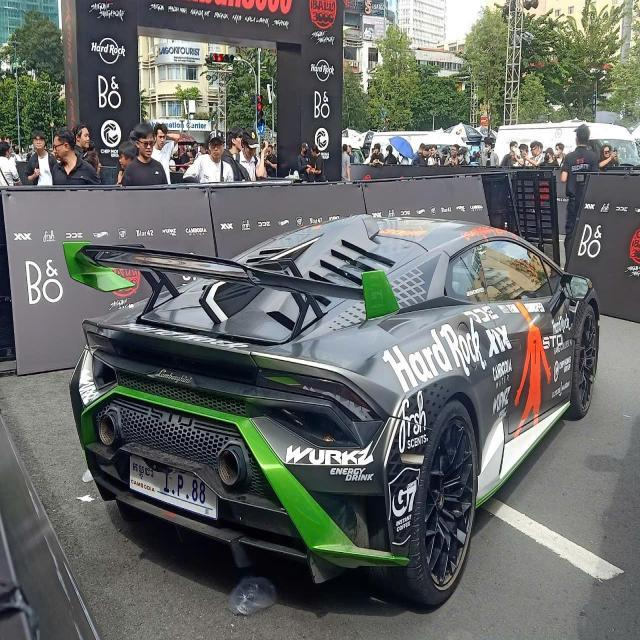Cambodia: (133, 461, 154, 481)
